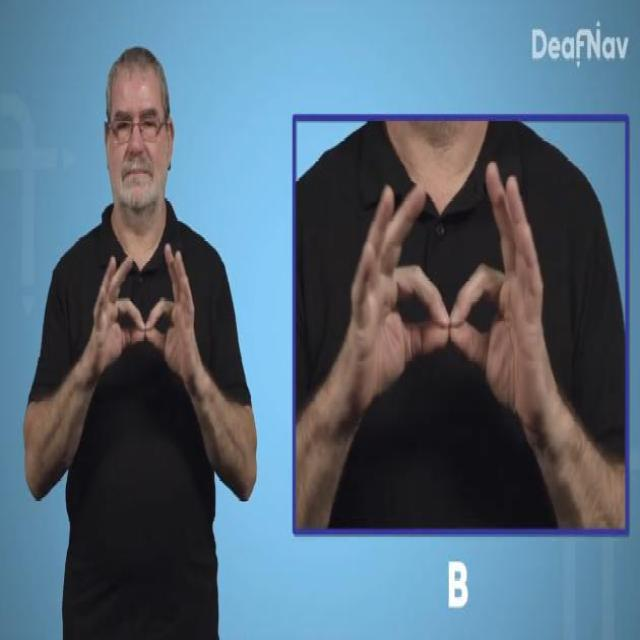B: (342, 160, 550, 421), (93, 240, 198, 384)
